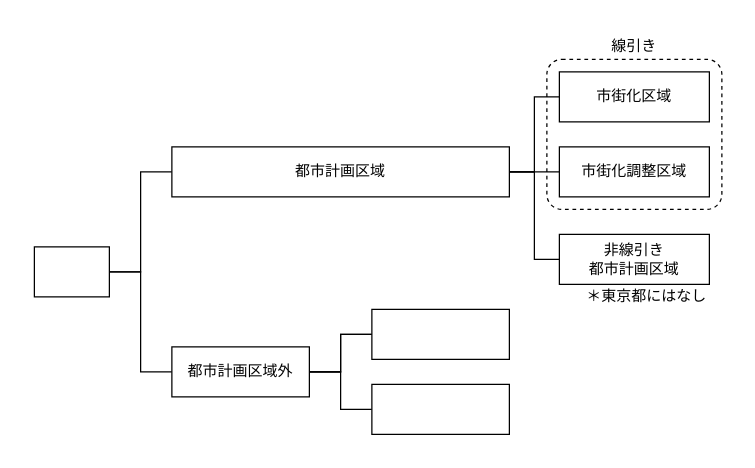
The diagram is 755 pixels wide and 468 high, and some of its shapes have lost their labels. Here are the shapes that lost their labels. From the top down, the box of each, then its label:
(33, 246, 109, 297): 土地
(371, 308, 509, 359): 準都市計画区域
(371, 383, 509, 434): それ以外
